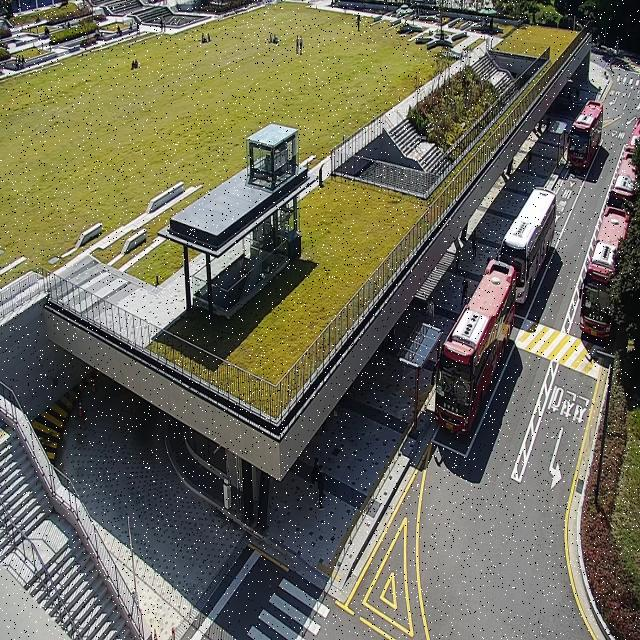queue: (412, 330, 441, 436)
